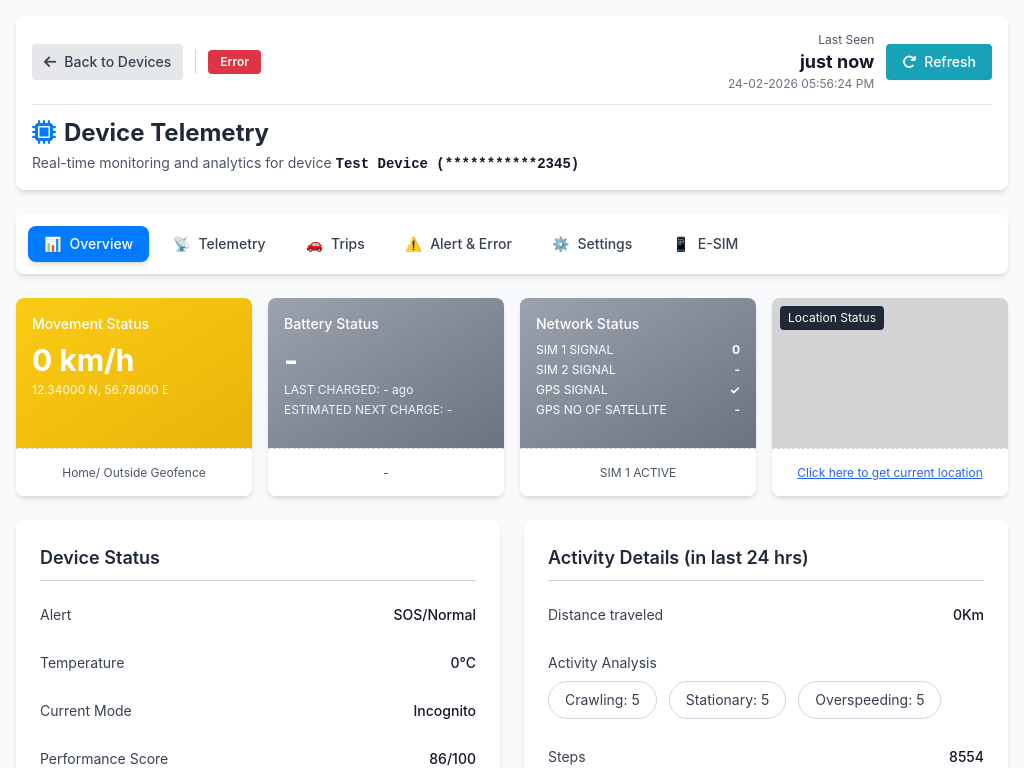
Test case: Preservation Property Tests: Other Settings Tab Features › Property 2.4: Device Modes section displays all mode toggles
This screenshot has width=1024, height=768.
Click the button "⚙️ Settings".
click(592, 244)  # box [536,226,648,262]
(page scrolled)
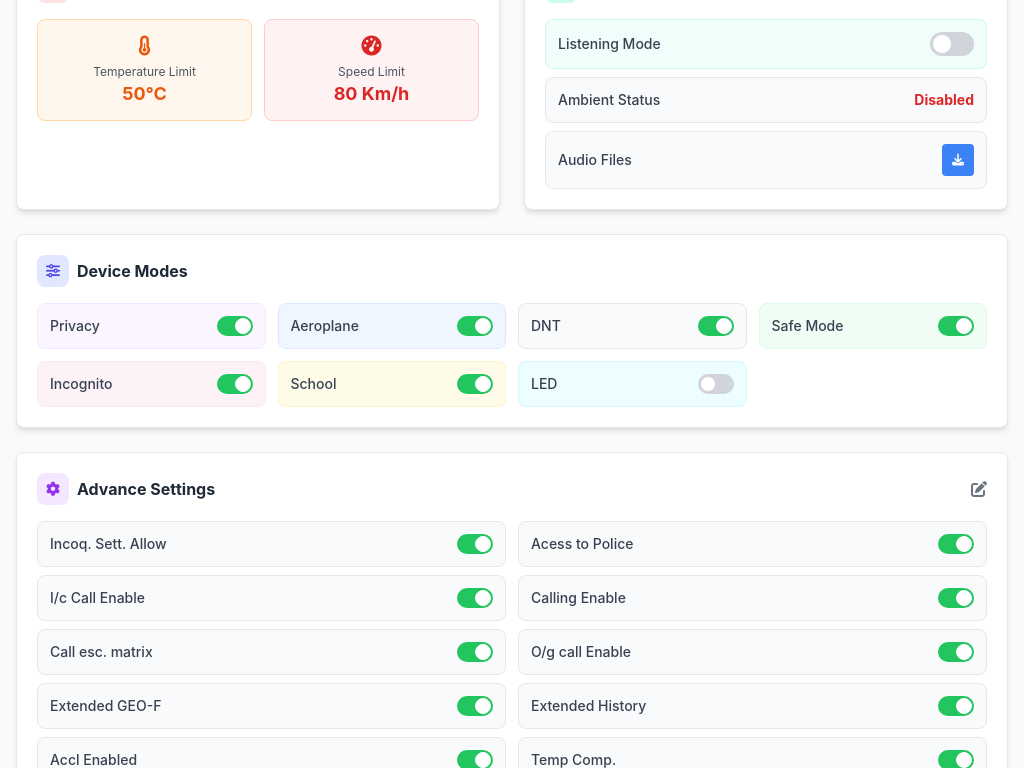
expect the heading "Device Modes" is shown: met, box [37,255,188,287]
expect the text "Privacy" is shown: met, box [50,316,100,336]
expect the text "Aeroplane" is shown: met, box [290,316,359,336]
